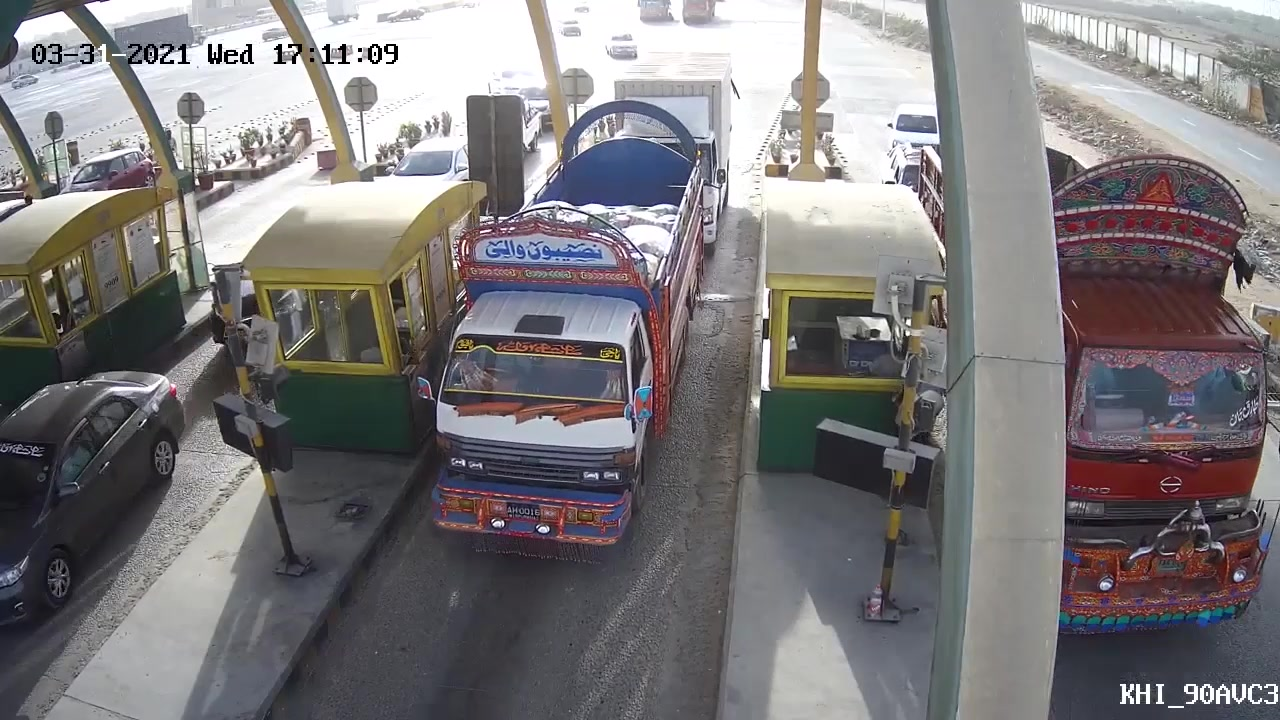F3: (426, 94, 710, 568)
